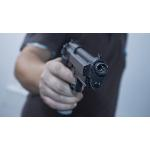Pistol: (56, 40, 108, 116)
